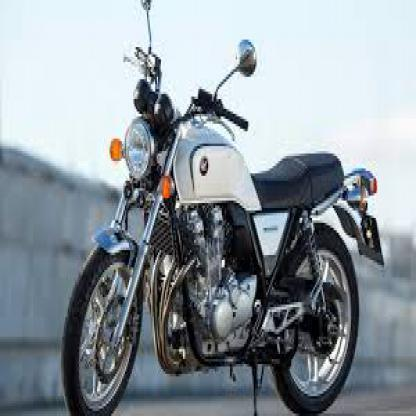Motorcycle: (54, 0, 387, 414)
